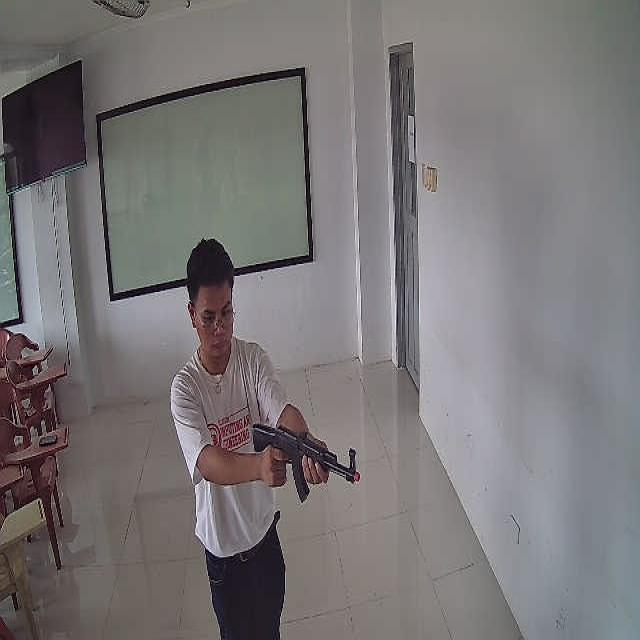rifle: (252, 424, 360, 504)
